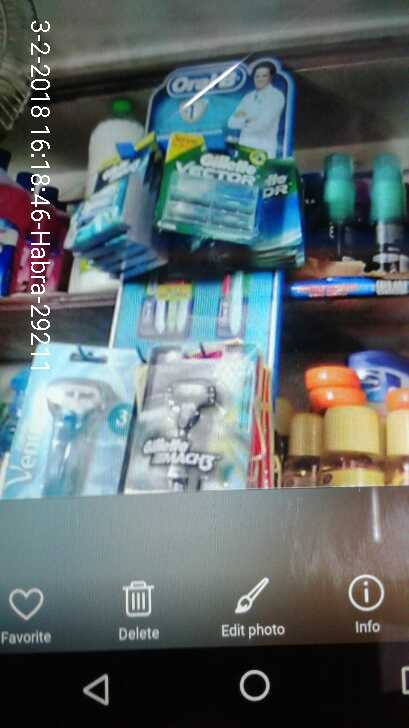beauty: (128, 323, 257, 499), (11, 342, 134, 498), (161, 132, 261, 245)
